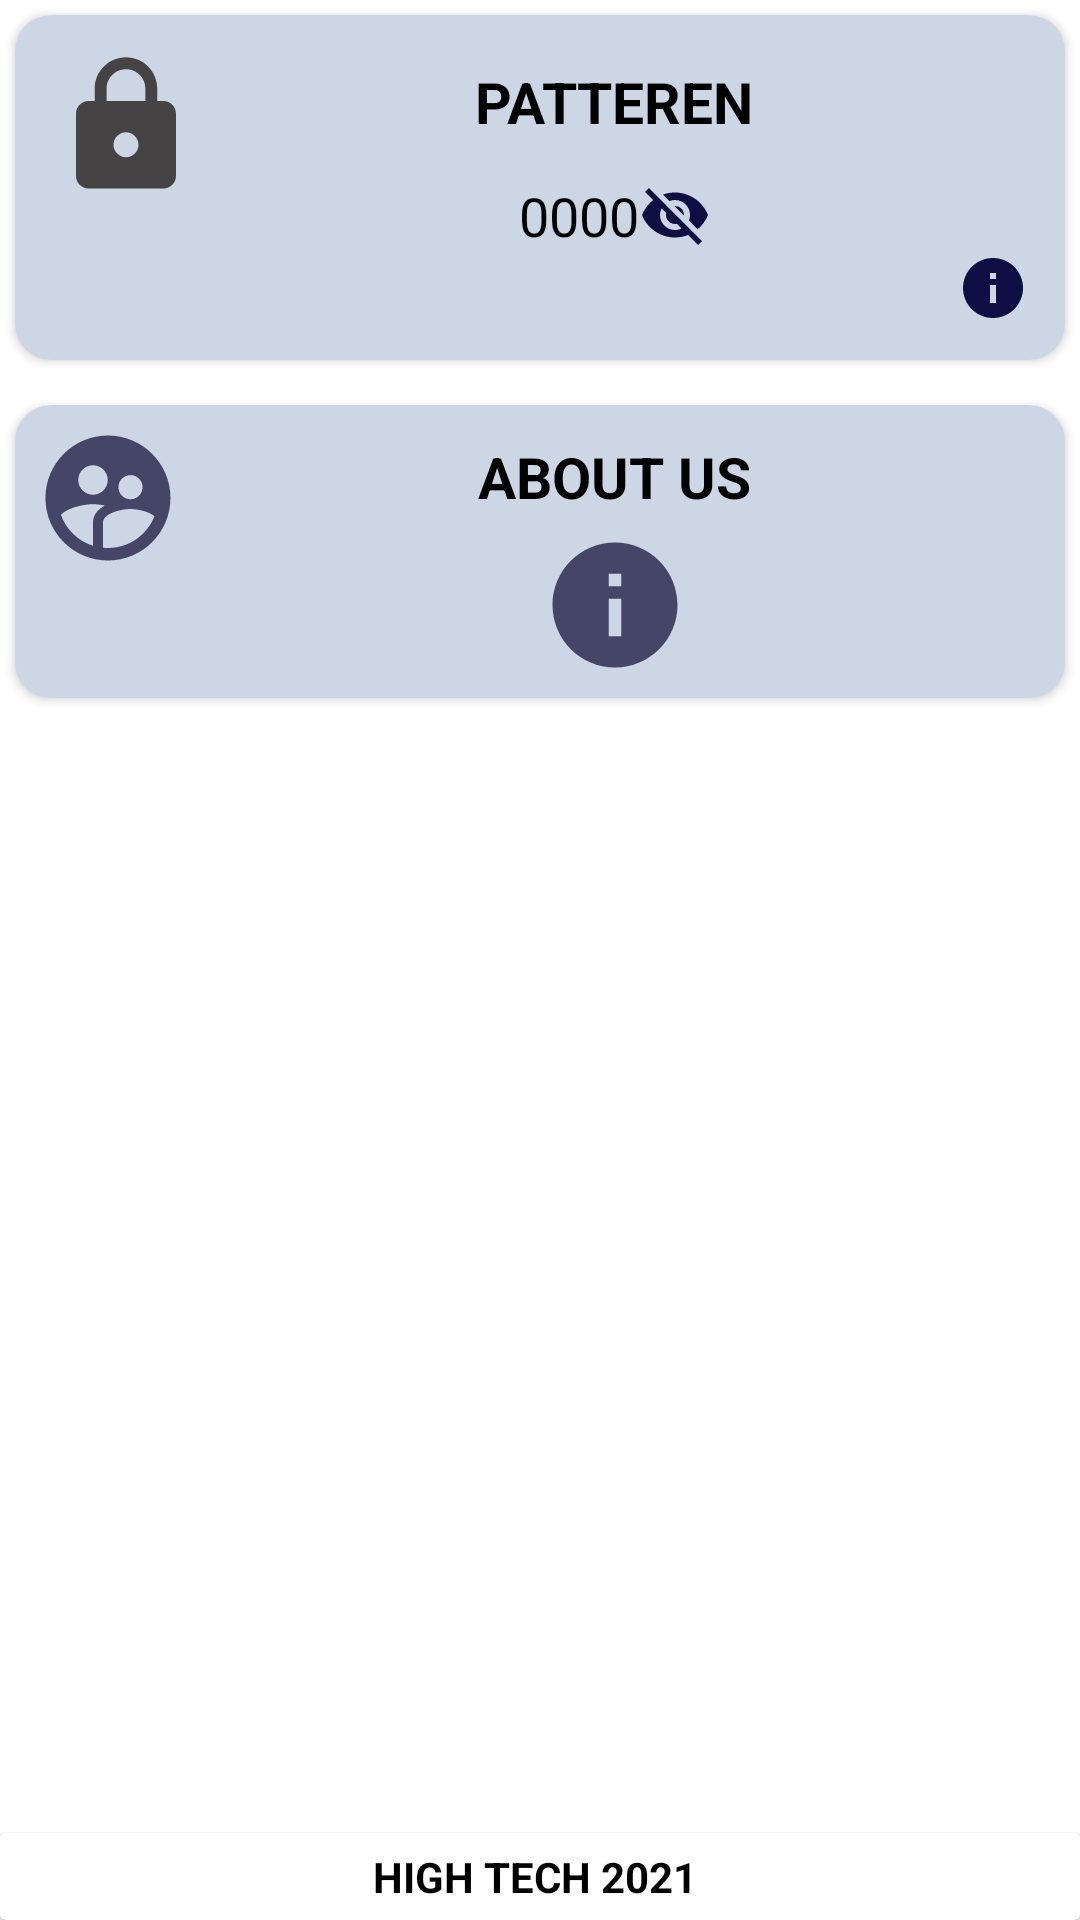

Point at icon controls on the screen. Image size 1080x1920, points as point (x, y).
info: point (993, 288), point (615, 605)
supervised user circle: point (108, 498)
visibility off: point (675, 216)
